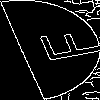F: (25, 25, 100, 67)
